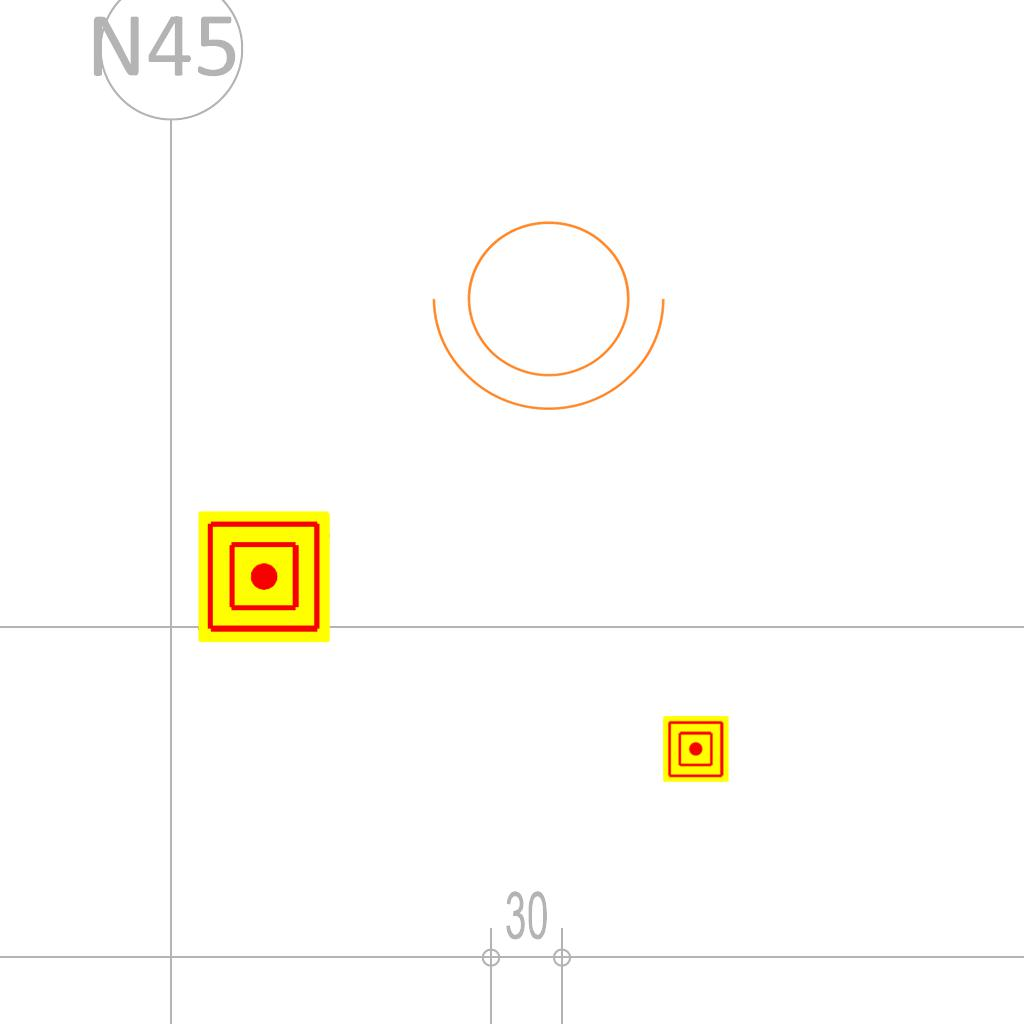NAM-Nichtautomatischer_Melder: (198, 511, 330, 643), (663, 716, 729, 782)
Scheinwerfer_fuer_Alarmbeleuchtung: (423, 196, 687, 421)
